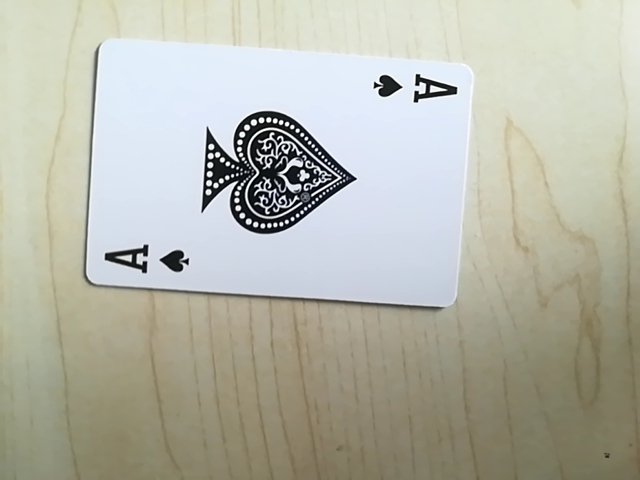ht a: (99, 238, 193, 284), (370, 67, 459, 111)
